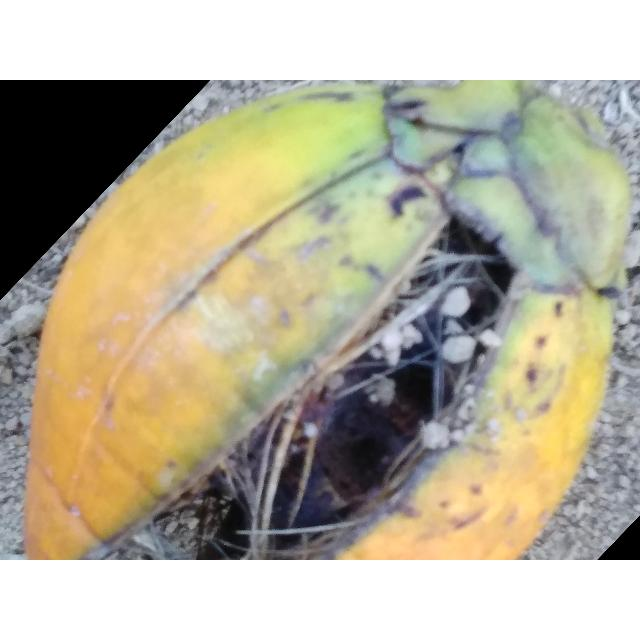damaged: (28, 88, 626, 559)
